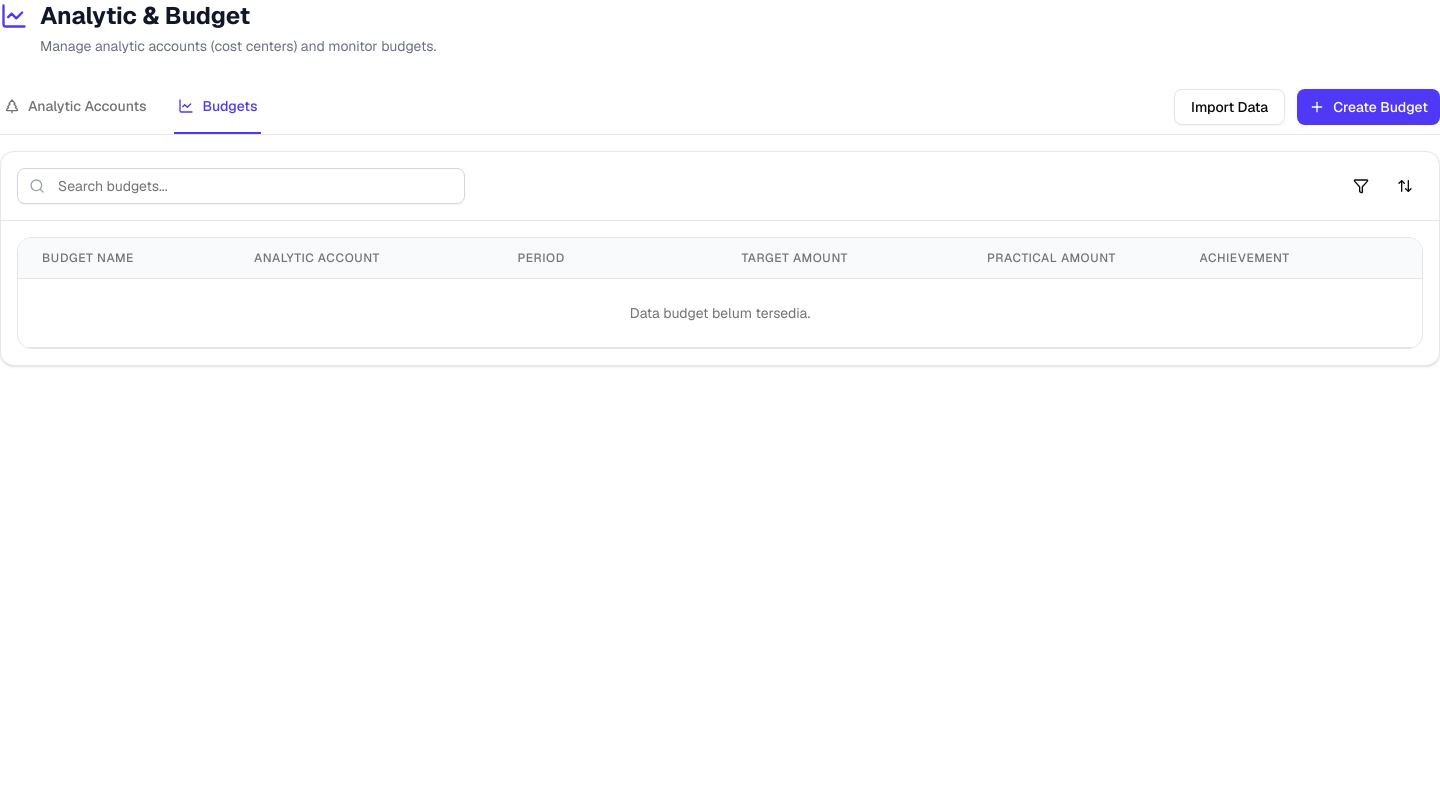
Test: accounting-settings integration errors › shows 422 error message on create budget
The width and height of the screenshot is (1440, 810).
Click the button "Create Budget": (1369, 107) left=1297, top=89, right=1439, bottom=125
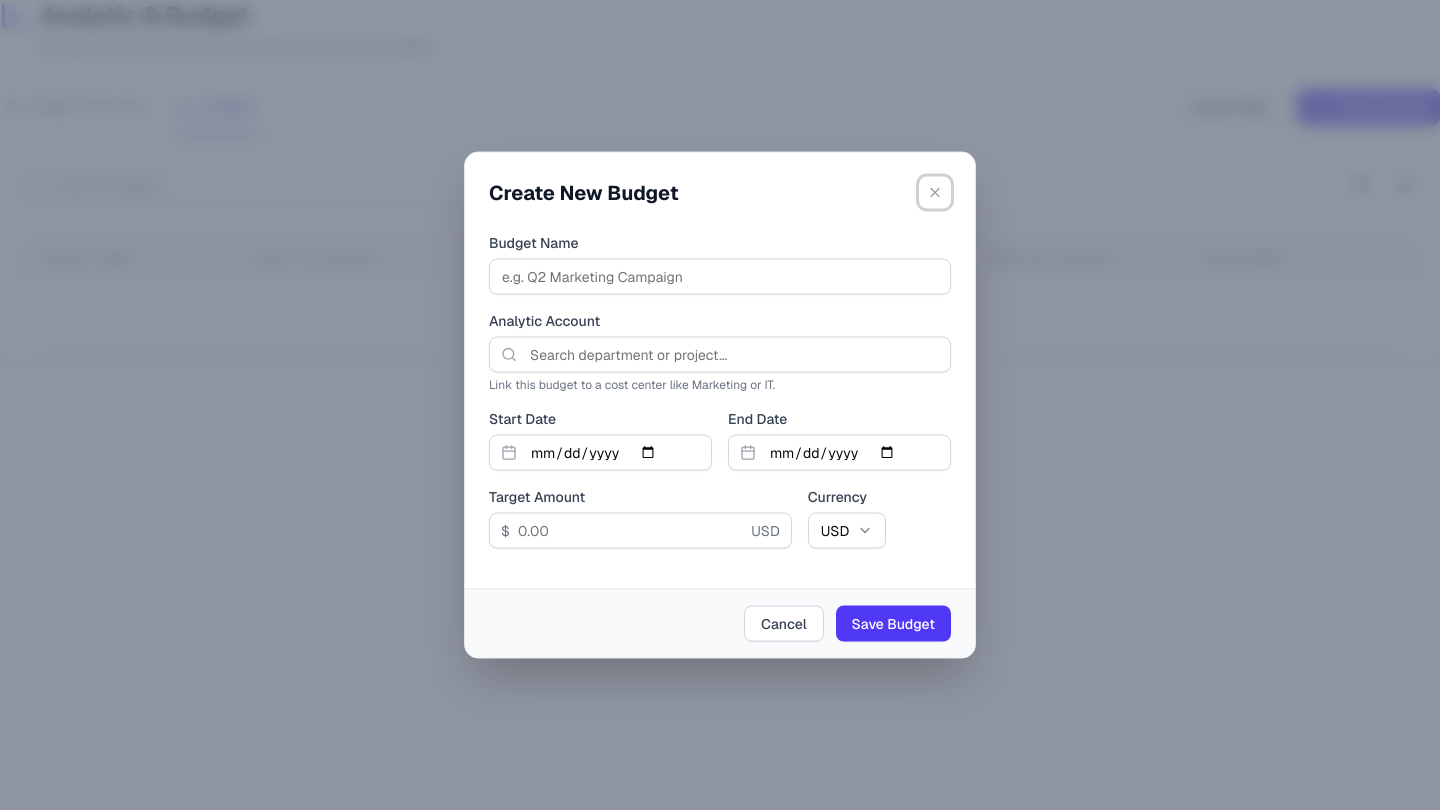
Click the button "Save Budget": (893, 624) left=836, top=606, right=951, bottom=642
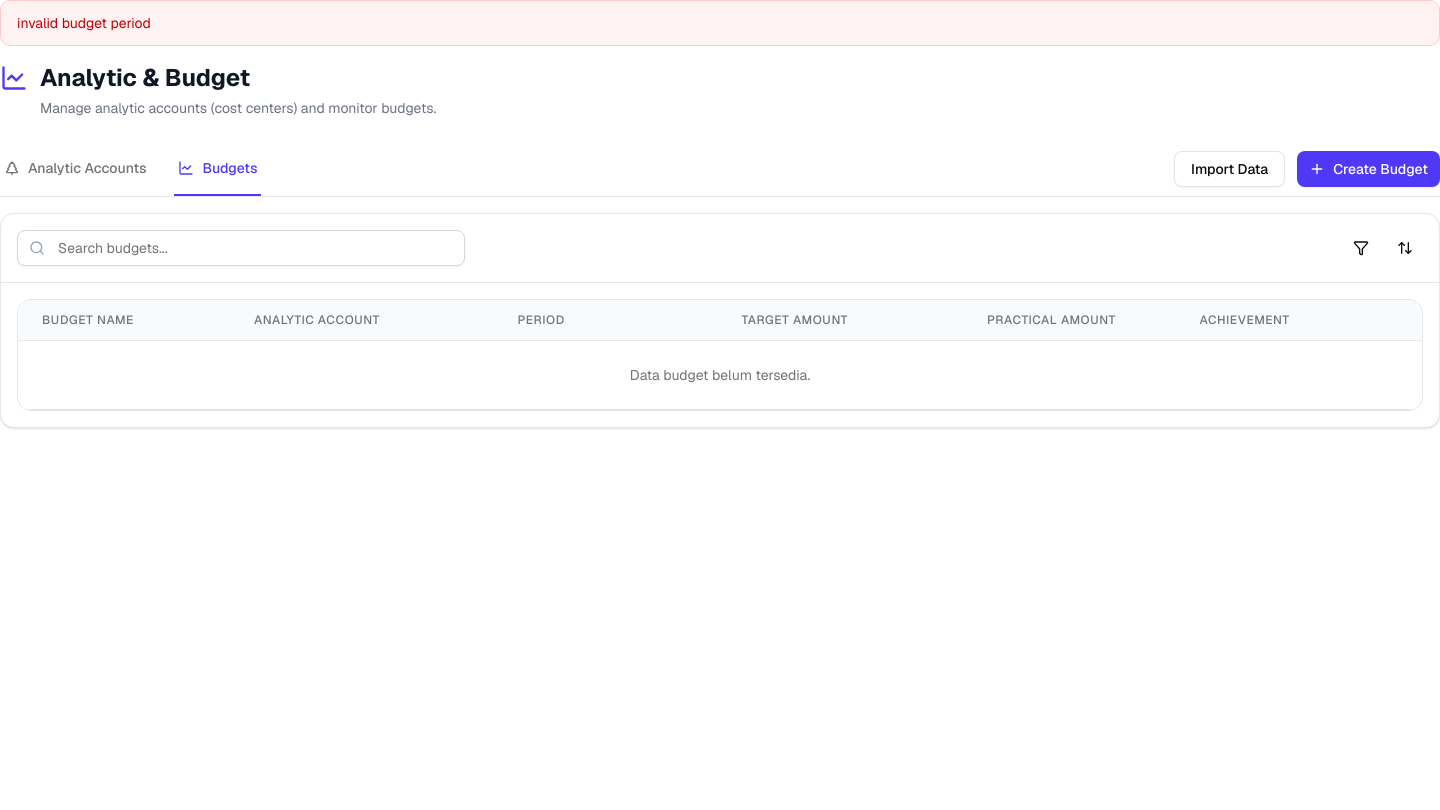
expect the text "invalid budget period" is shown: met, box left=0, top=0, right=1439, bottom=46
